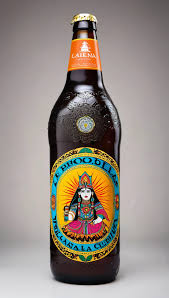glass_bottle: (44, 9, 125, 289)
